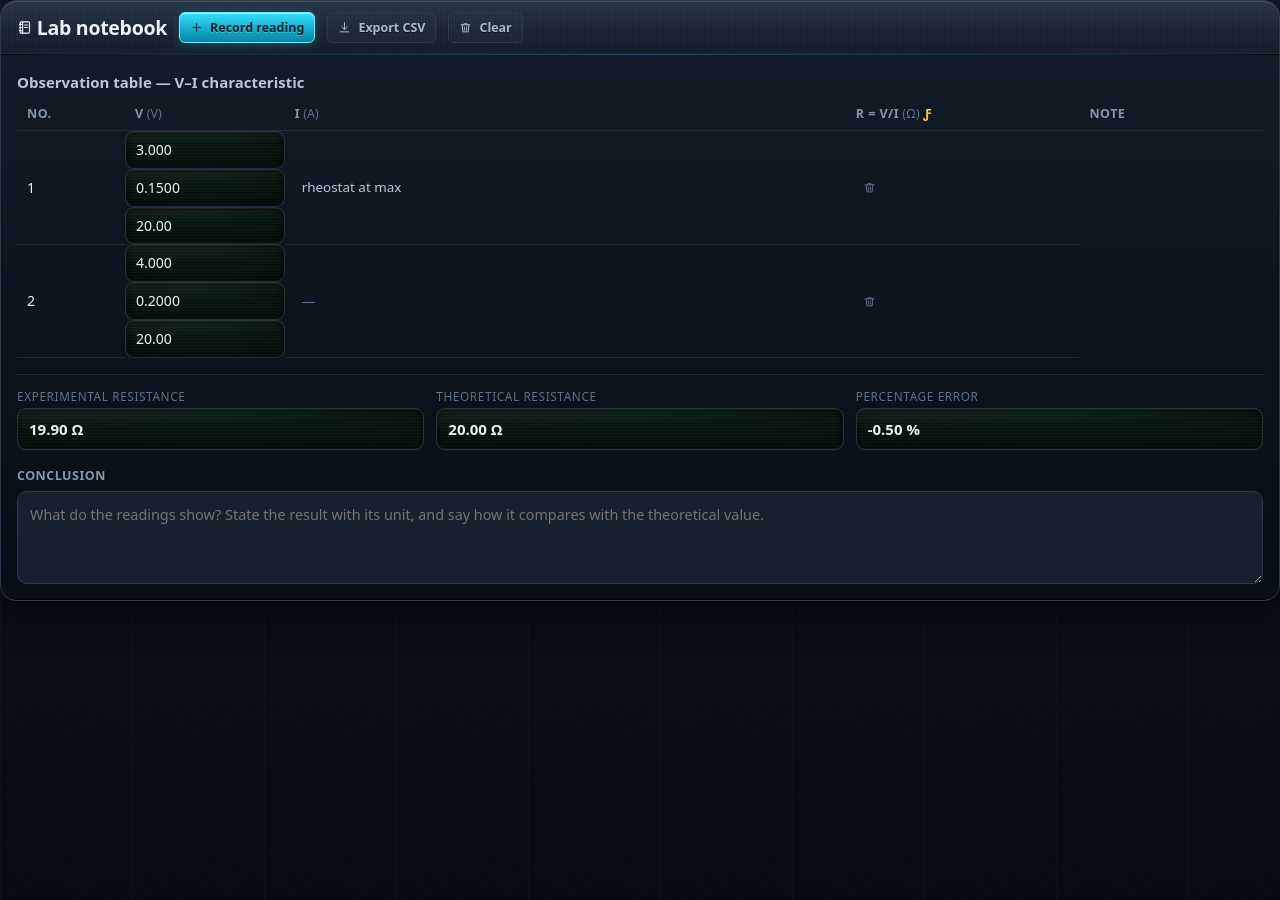
Test: the notebook table › offers the text to copy when the browser refuses the download
Click the button "Export CSV".
click(382, 28)  # box [327,12,436,43]
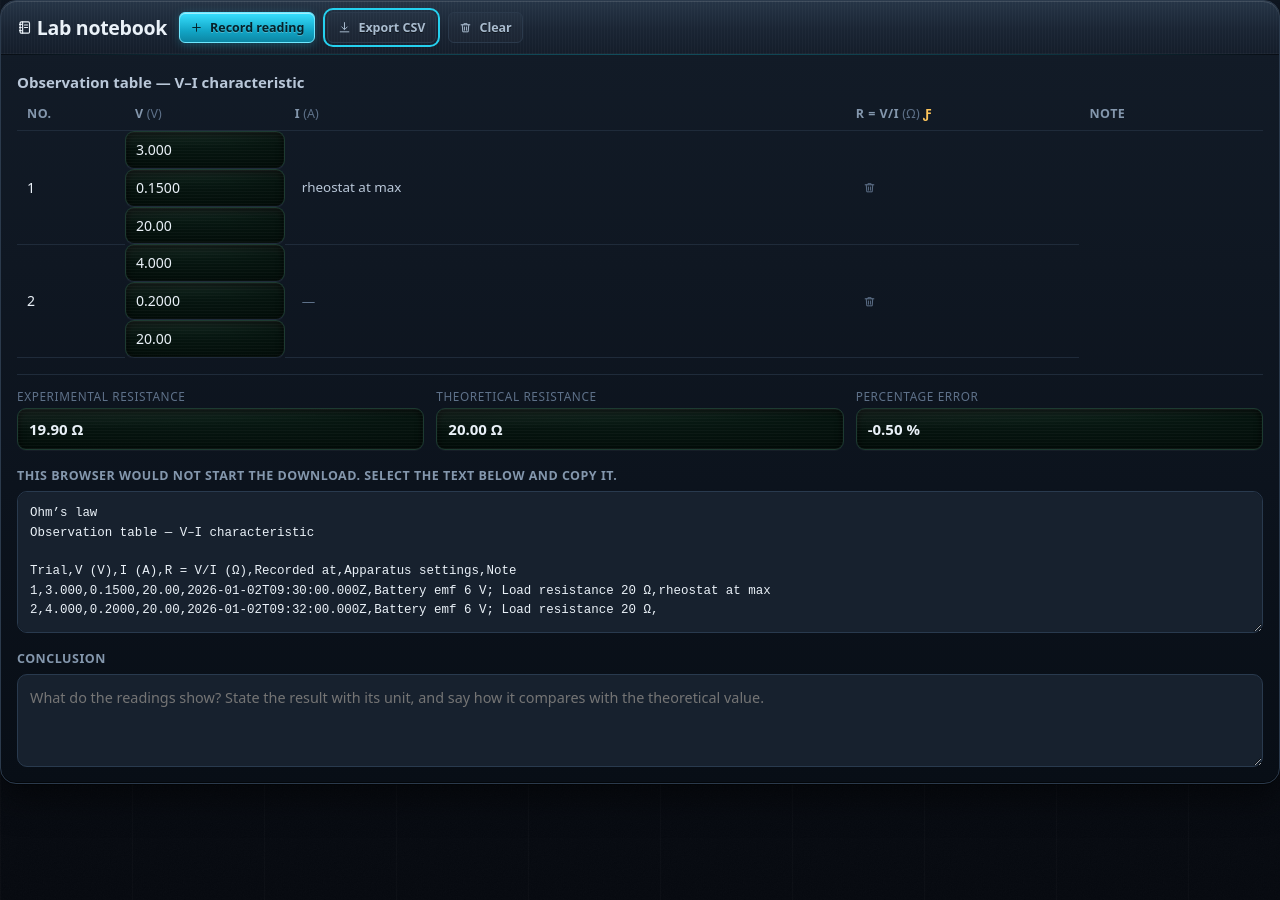
Expected: the text box labelled "would not start the download" is shown, [17,491,1263,633]
